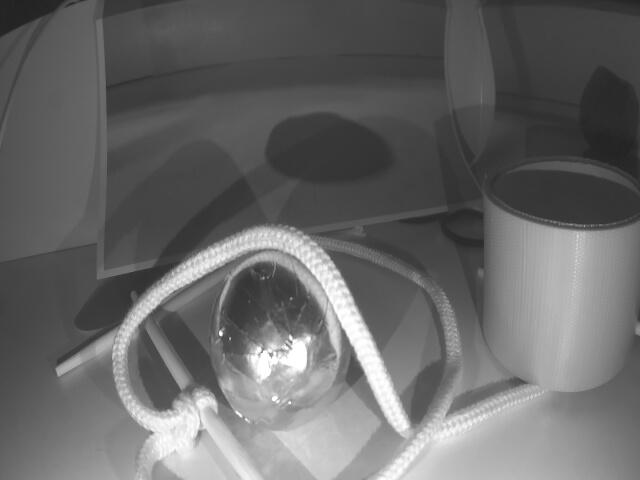Live: (212, 253, 357, 428)
